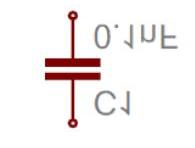Capacitor: (38, 48, 109, 88)
